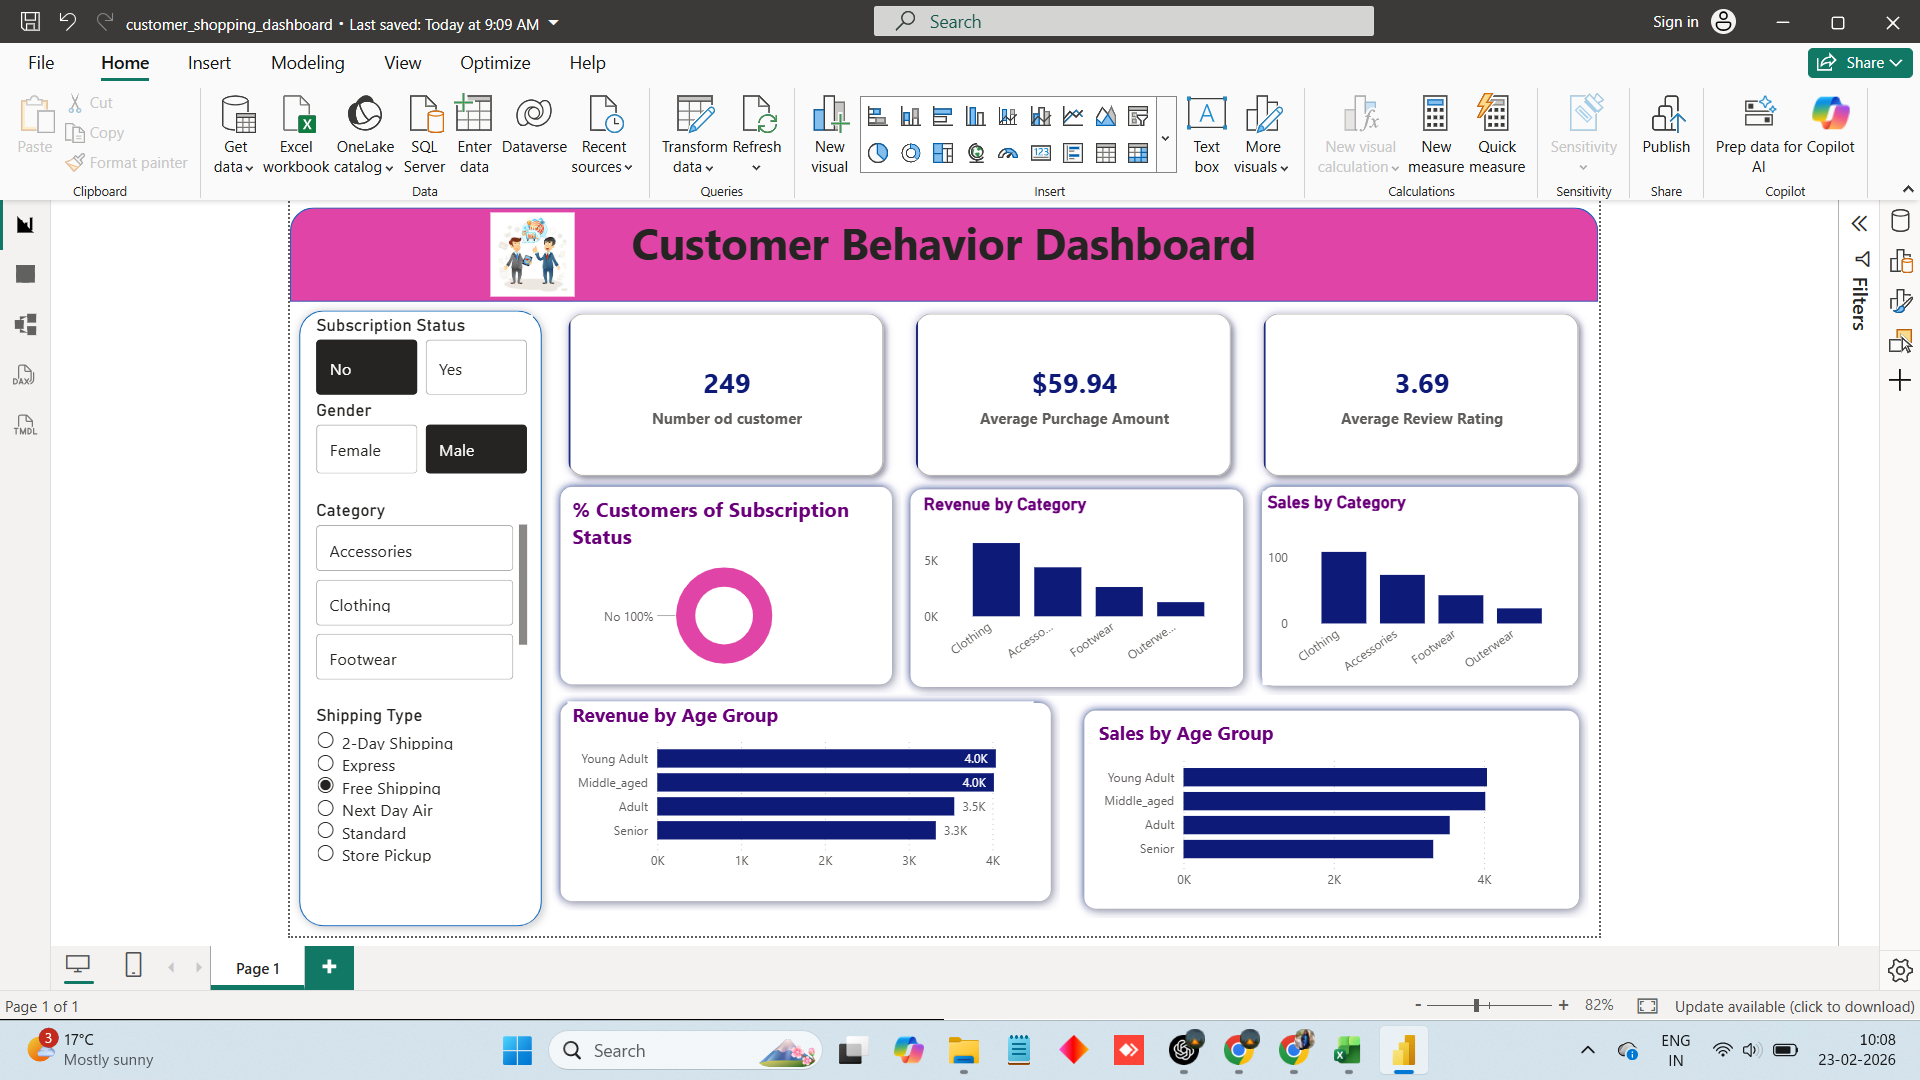

What the dashboard file says about the page in this screenshot:
{"tool":"powerbi","page":{"name":"Page 1","canvas":[1280,720],"ordinal":0},"visuals":[{"type":"cardVisual","fields":{"Data":["customer_shopping customer.Number od customer","customer_shopping customer.Average Purchage Amount","customer_shopping customer.Average Review Rating"]},"box":[255.6,94.2,1024.7,193.2],"z":0},{"type":"shape","box":[255.6,271.5,342.4,211.6],"z":1000},{"type":"shape","box":[0,7.2,1279.7,92.3],"z":2000},{"type":"textbox","box":[10.1,7.2,1259.5,69.3],"z":3000},{"type":"donutChart","title":"% Customers of Subscription Status","fields":{"Category":["customer_shopping customer.subscription_status"],"Y":["CountNonNull(customer_shopping customer.customer_id)"]},"box":[271.5,288.6,306.9,183.4],"z":4000},{"type":"shape","box":[598,273.9,343.6,211.6],"z":5000},{"type":"shape","box":[941.6,271.5,327.7,212.8],"z":6000},{"type":"clusteredColumnChart","title":"Revenue by Category","fields":{"Category":["customer_shopping customer.category"],"Y":["Sum(customer_shopping customer.purchase_amount)"]},"box":[615.1,287.4,310.6,176.1],"z":7000},{"type":"clusteredColumnChart","title":"Sales by Category","fields":{"Category":["customer_shopping customer.category"],"Y":["CountNonNull(customer_shopping customer.customer_id)"]},"box":[951.4,284.9,303.3,189.5],"z":8000},{"type":"shape","box":[0,99.6,255.4,620.4],"z":9000},{"type":"advancedSlicerVisual","fields":{"Values":["customer_shopping customer.subscription_status"]},"box":[20.2,112.5,216.4,83.7],"z":10000},{"type":"advancedSlicerVisual","fields":{"Values":["customer_shopping customer.gender"]},"box":[20.2,196.2,216.4,77.9],"z":11000},{"type":"advancedSlicerVisual","fields":{"Values":["customer_shopping customer.category"]},"box":[20.2,292.9,216.4,180.3],"z":12000},{"type":"shape","box":[255.4,483.3,497.8,212.1],"z":12500},{"type":"clusteredBarChart","title":"Revenue by Age Group","fields":{"Category":["customer_shopping customer.age_group"],"Y":["Sum(customer_shopping customer.purchase_amount)"]},"box":[271.2,490.5,455.9,174.6],"z":13000},{"type":"listSlicer","fields":{"Values":["customer_shopping customer.shipping_type"]},"box":[20.2,493.4,216.4,209.2],"z":14000},{"type":"shape","box":[767.5,490.5,502.1,212.1],"z":15001},{"type":"clusteredBarChart","title":"Sales by Age Group","fields":{"Category":["customer_shopping customer.age_group"],"Y":["Sum(customer_shopping customer.purchase_amount)"]},"box":[786.3,509.3,467.5,174.6],"z":15002},{"type":"image","box":[173.1,7.2,127,92.3],"z":15003}]}

Visuals, with their boxes on the page's 1280x720 design canvas (x1, y1, x2, y2). These are canvas units, not pixel positions in the 1920x1080 screenshot, which may show the page scaled, cropped or inside an application window:
cardVisual - customer_shopping customer.Number od customer x customer_shopping customer.Average Purchage Amount: left=256, top=94, right=1280, bottom=287
shape: left=256, top=272, right=598, bottom=483
shape: left=0, top=7, right=1280, bottom=100
textbox: left=10, top=7, right=1270, bottom=76
"% Customers of Subscription Status" donutChart: left=272, top=289, right=578, bottom=472
shape: left=598, top=274, right=942, bottom=486
shape: left=942, top=272, right=1269, bottom=484
"Revenue by Category" clusteredColumnChart: left=615, top=287, right=926, bottom=464
"Sales by Category" clusteredColumnChart: left=951, top=285, right=1255, bottom=474
shape: left=0, top=100, right=255, bottom=720
advancedSlicerVisual - customer_shopping customer.subscription_status: left=20, top=112, right=237, bottom=196
advancedSlicerVisual - customer_shopping customer.gender: left=20, top=196, right=237, bottom=274
advancedSlicerVisual - customer_shopping customer.category: left=20, top=293, right=237, bottom=473
shape: left=255, top=483, right=753, bottom=695
"Revenue by Age Group" clusteredBarChart: left=271, top=490, right=727, bottom=665
listSlicer - customer_shopping customer.shipping_type: left=20, top=493, right=237, bottom=703
shape: left=768, top=490, right=1270, bottom=703
"Sales by Age Group" clusteredBarChart: left=786, top=509, right=1254, bottom=684
image: left=173, top=7, right=300, bottom=100
